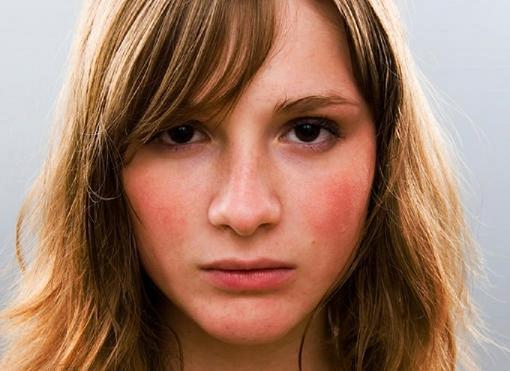Drunk: (127, 9, 364, 330)
